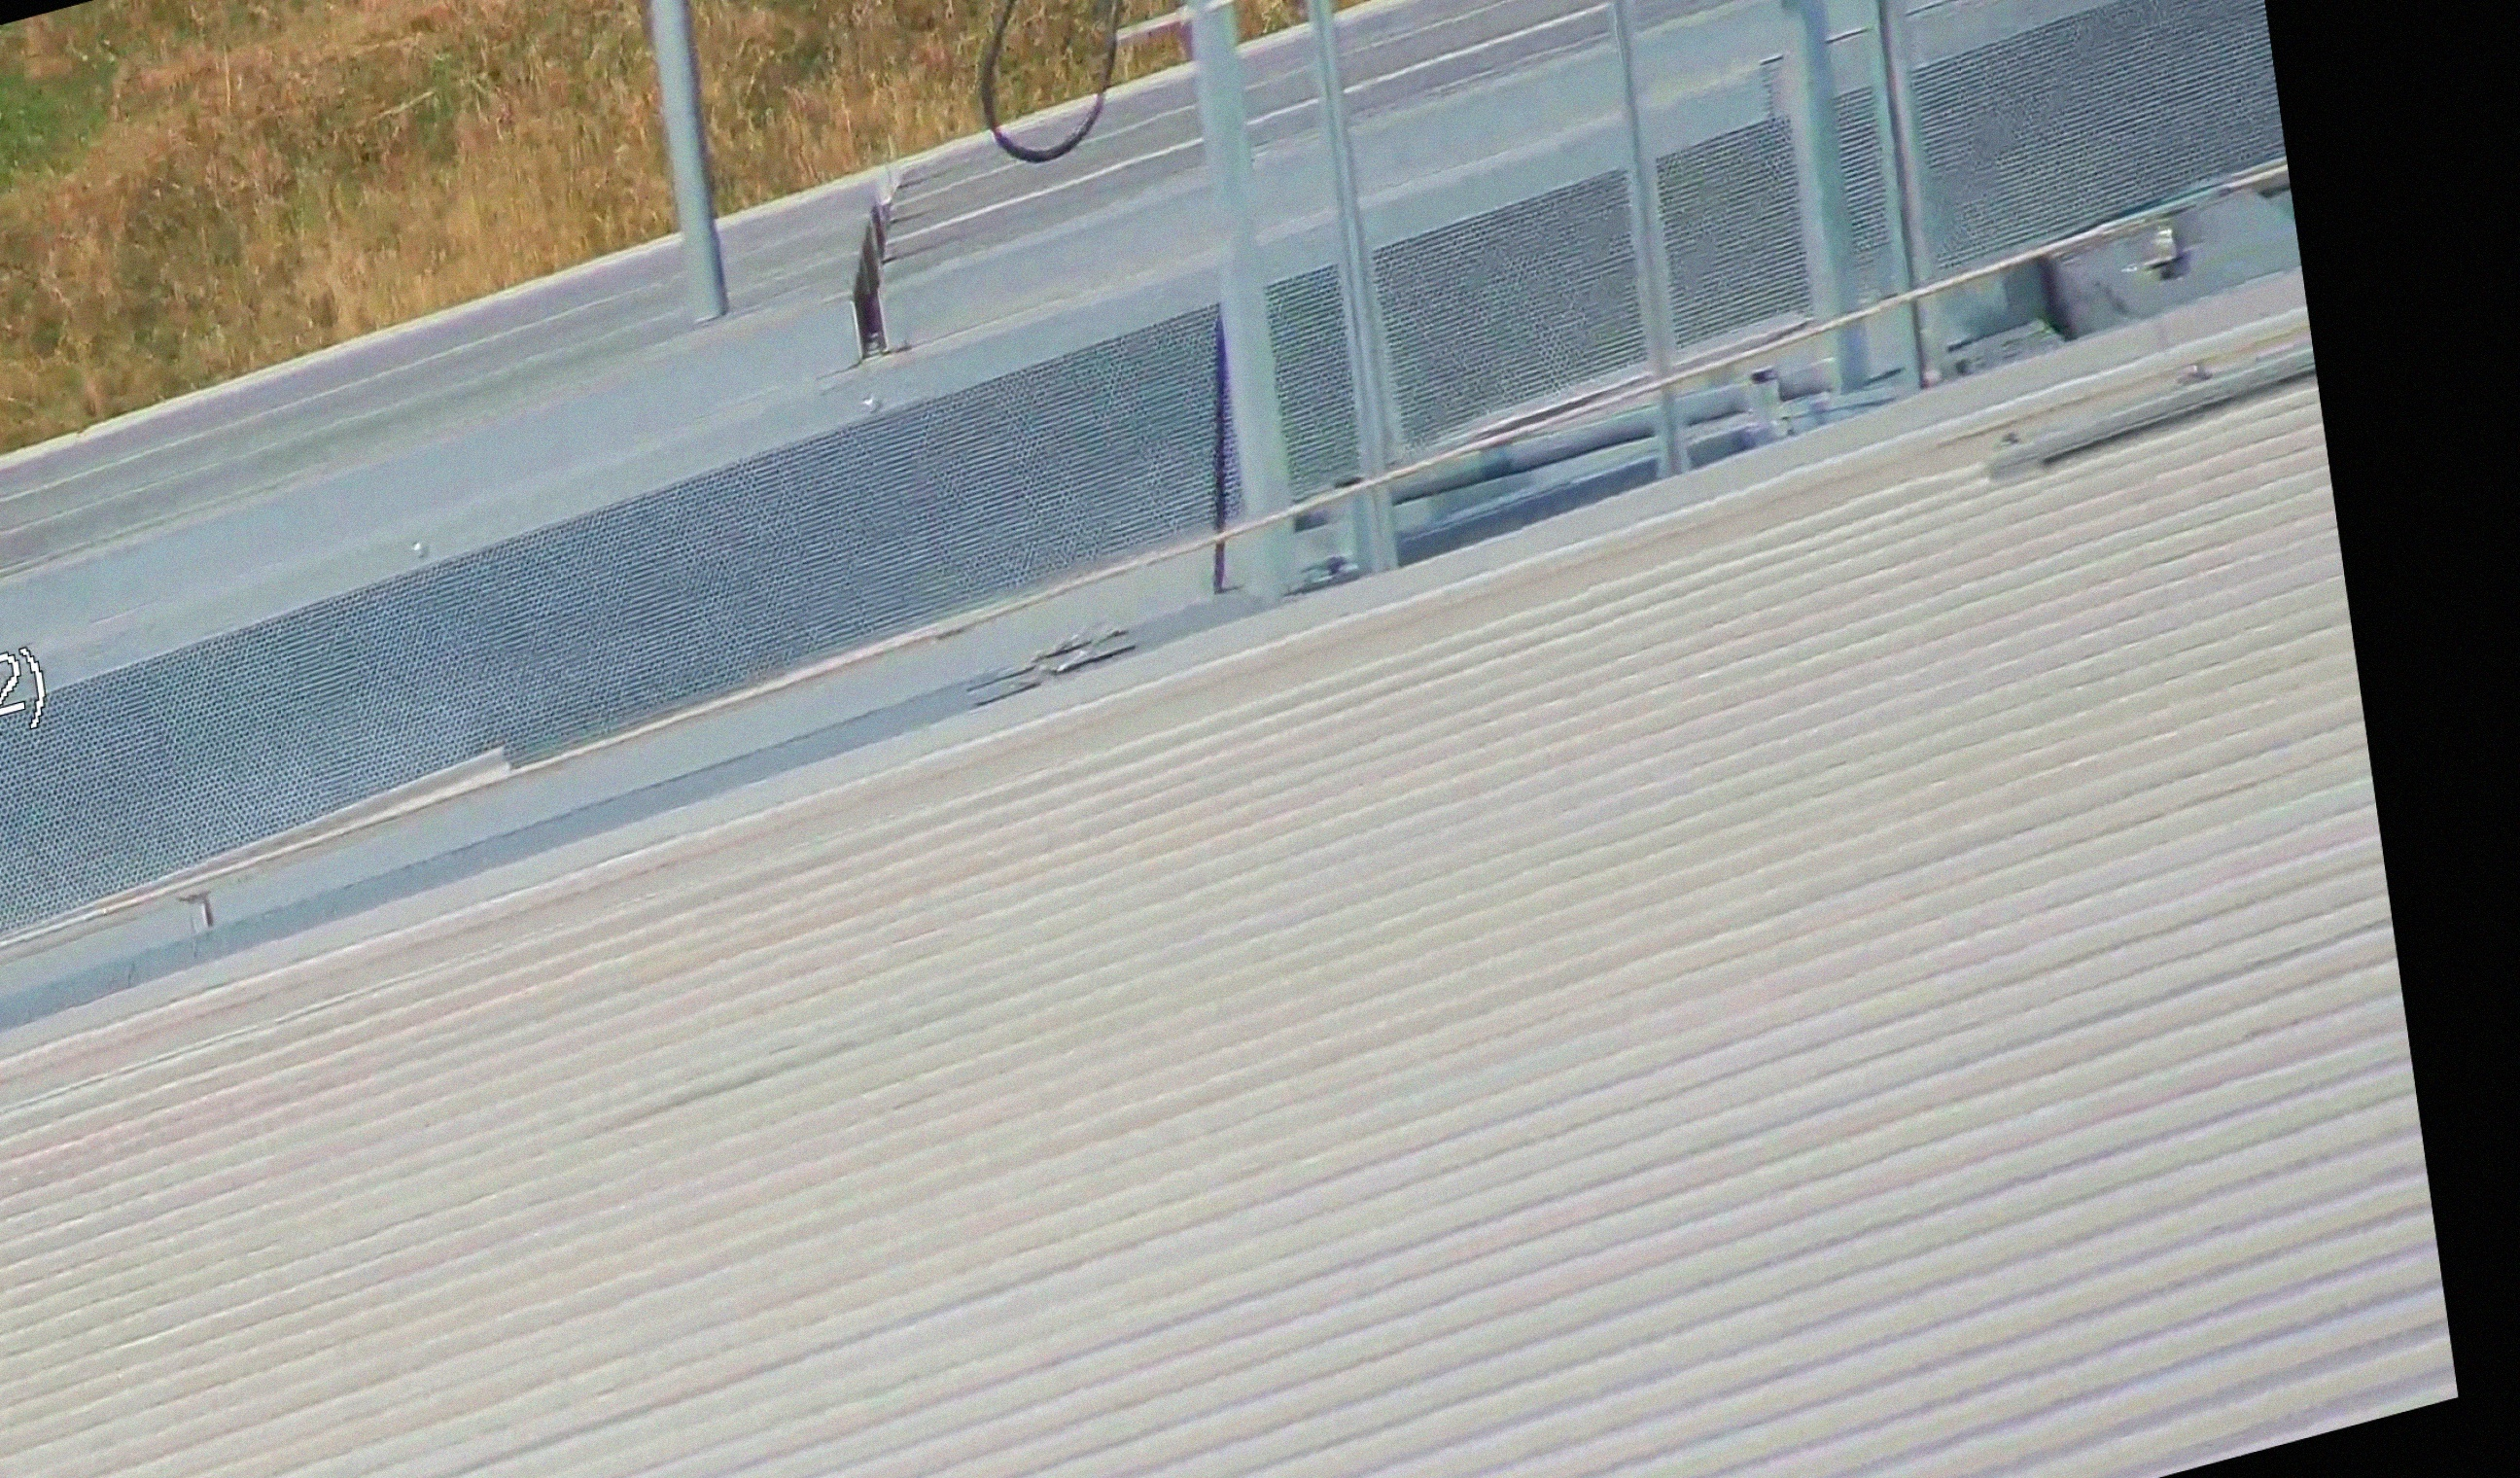Other: (823, 160, 944, 357)
